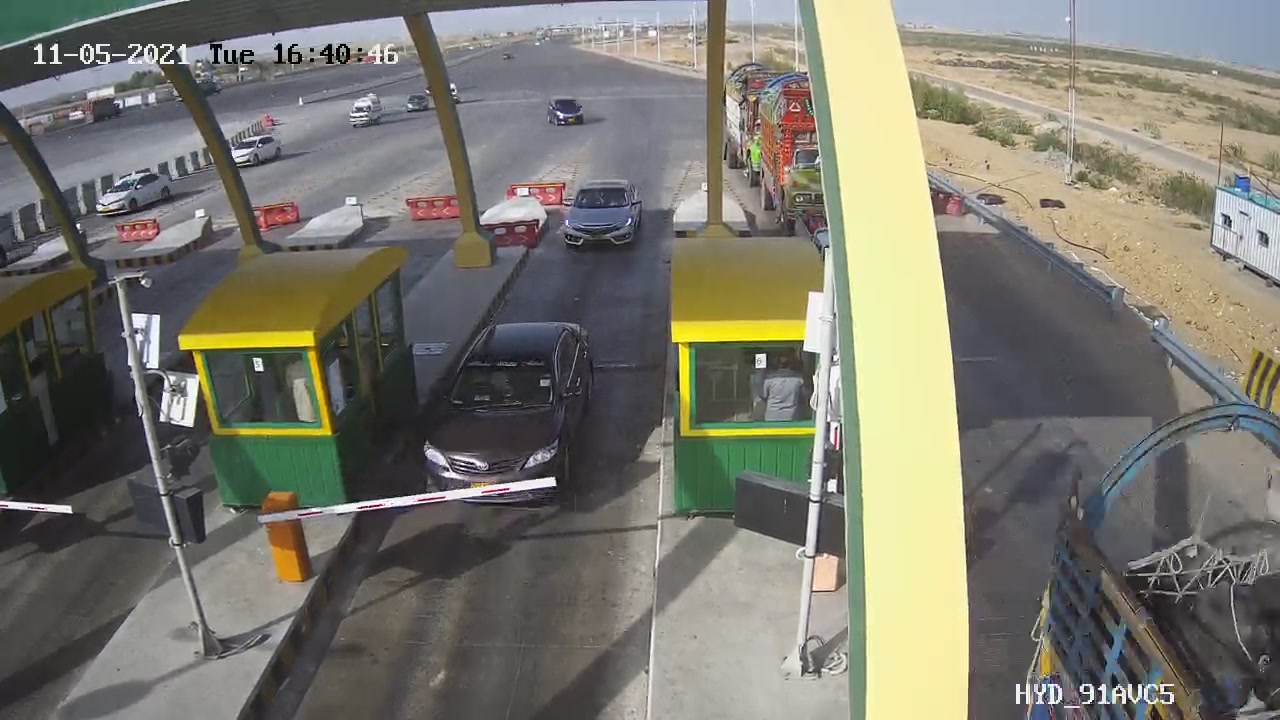F1: (410, 312, 610, 520), (553, 171, 655, 263)
